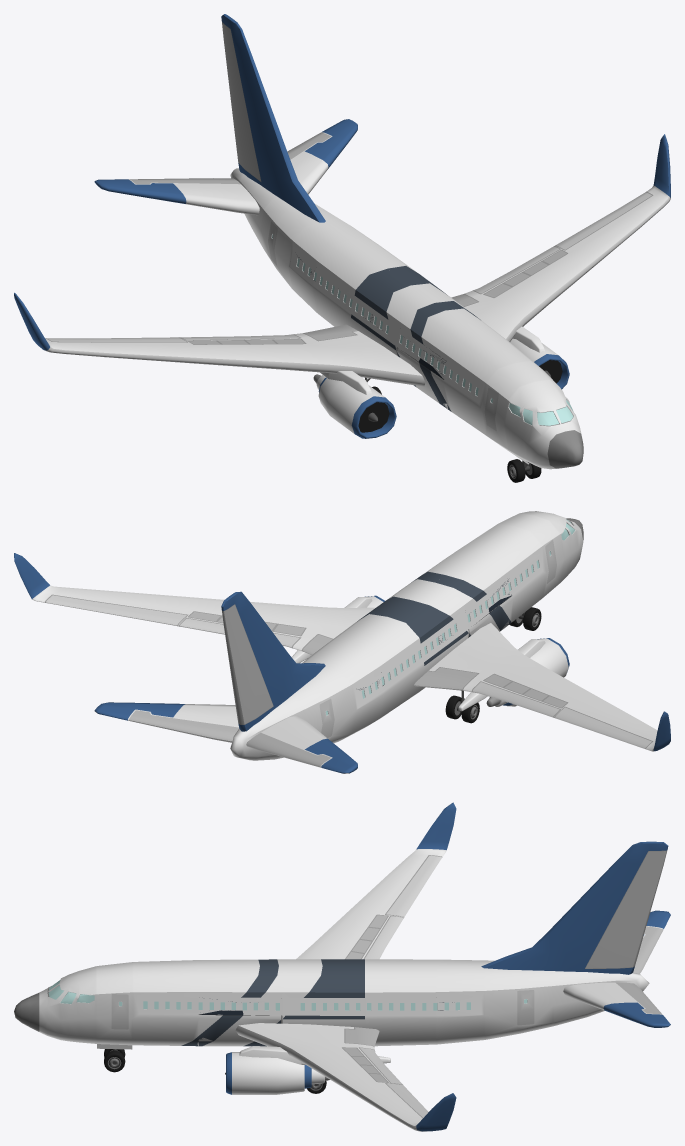
Rendered from SM_Vehicles_Plane_01.fbx.
3 renders of one model, top to bottom at view 1: azimuth 30°, elevation 25°; view 2: azimuth 150°, elevation 25°; view 3: azimuth 270°, elevation 25°, orthographic. The views are drawn at different scales.
Visible parts, largest first — view 1: SM_Vehicles_Plane_01, SM_Vehicles_Plane_03; view 2: SM_Vehicles_Plane_01, SM_Vehicles_Plane_03; view 3: SM_Vehicles_Plane_01, SM_Vehicles_Plane_03.
Boxes of the visible parts, x1,y1,x2,y2 form: SM_Vehicles_Plane_01: [14, 14, 670, 482]; SM_Vehicles_Plane_03: [298, 257, 506, 434]; SM_Vehicles_Plane_01: [14, 511, 670, 773]; SM_Vehicles_Plane_03: [357, 548, 545, 689]; SM_Vehicles_Plane_01: [14, 802, 670, 1131]; SM_Vehicles_Plane_03: [133, 959, 452, 1046].
Bounding box in the file's own units: 32.9 × 11.88 × 31.39.
